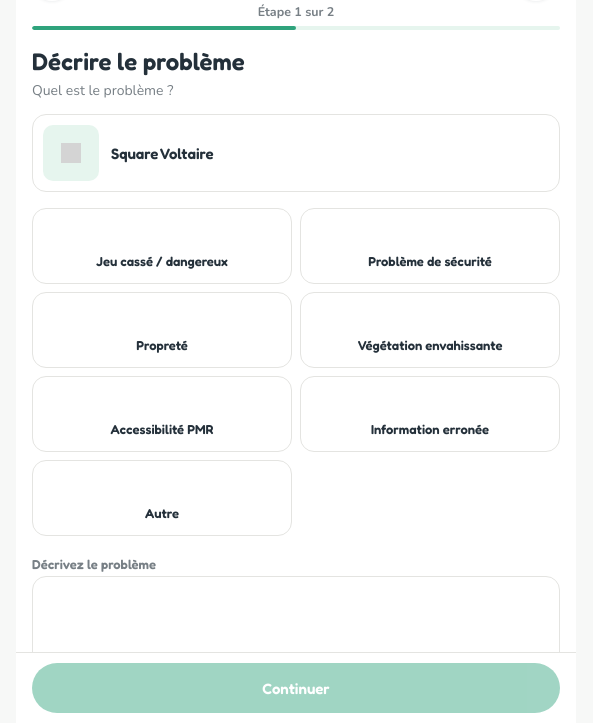
Scenario: ReportProblem — parcours en 3 étapes › nothing is sent before the summary; the summary recaps and its « Modifier » goes back
This screenshot has width=593, height=723.
Step 1. Click the button "Problème de sécurité" → point(430, 246), box [300,208,560,284]
(page scrolled)
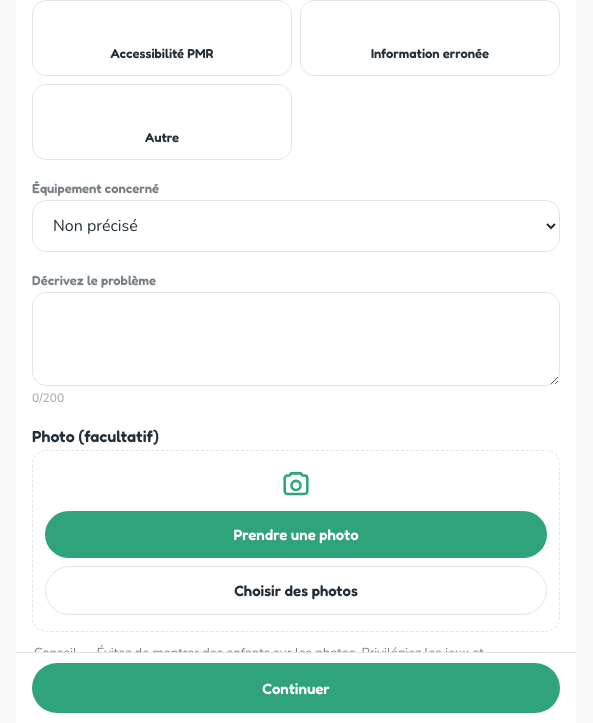
Step 2. Type "fissure au sol" into the text box labelled "Décrivez le problème 0/200" → point(296, 339), box [32,292,560,386]
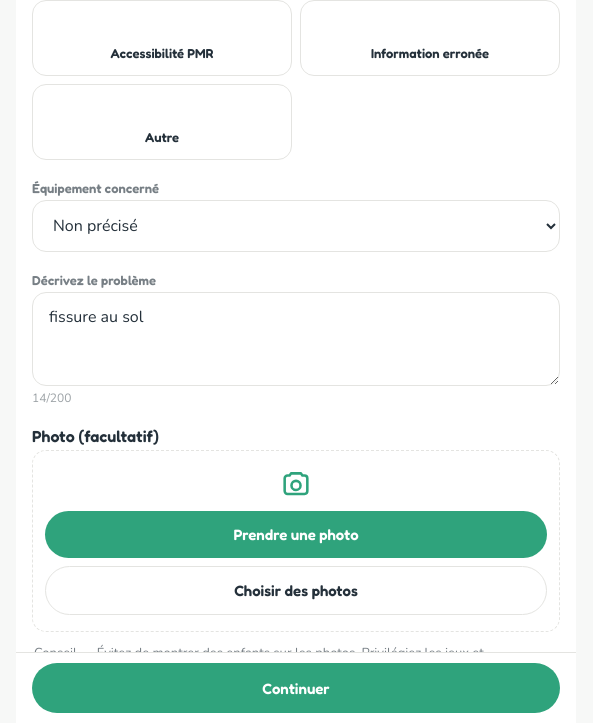
Expected: the button "Envoyer le signalement" is not shown
Step 3. Click the button "Continuer" → point(296, 688), box [32,663,560,713]
(page scrolled)
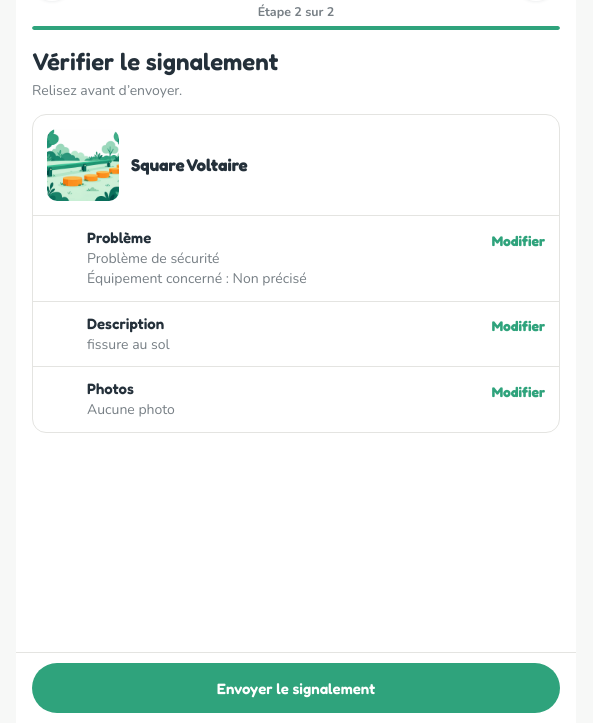
Now the text "Relisez avant d’envoyer." is shown, box [32,81,182,100]
Now the text "Problème de sécurité Équipement concerné : Non précisé" is shown, box [87,249,307,288]
Now the text "fissure au sol" is shown, box [87,335,170,354]
Step 4. Click the button with aria-label "Modifier — Description" → point(518, 326), box [482,304,555,348]
(page scrolled)
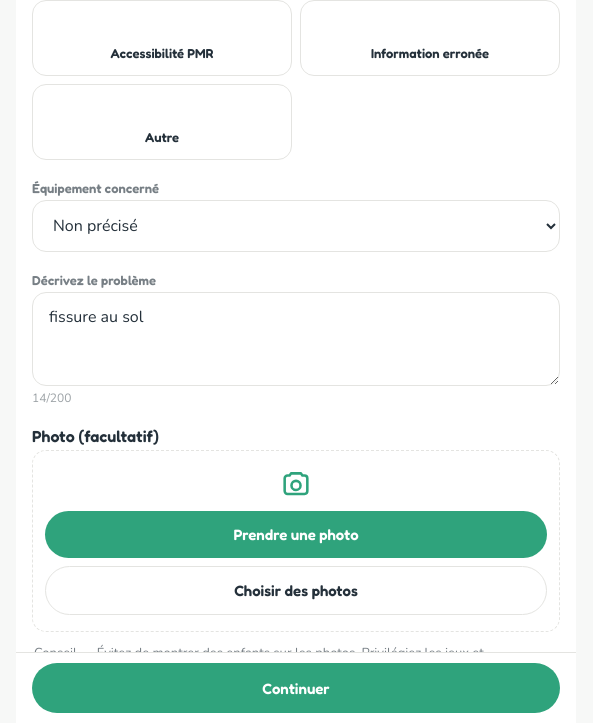
Now the text box labelled "Décrivez le problème 14/200" is shown, box [32,292,560,386]
